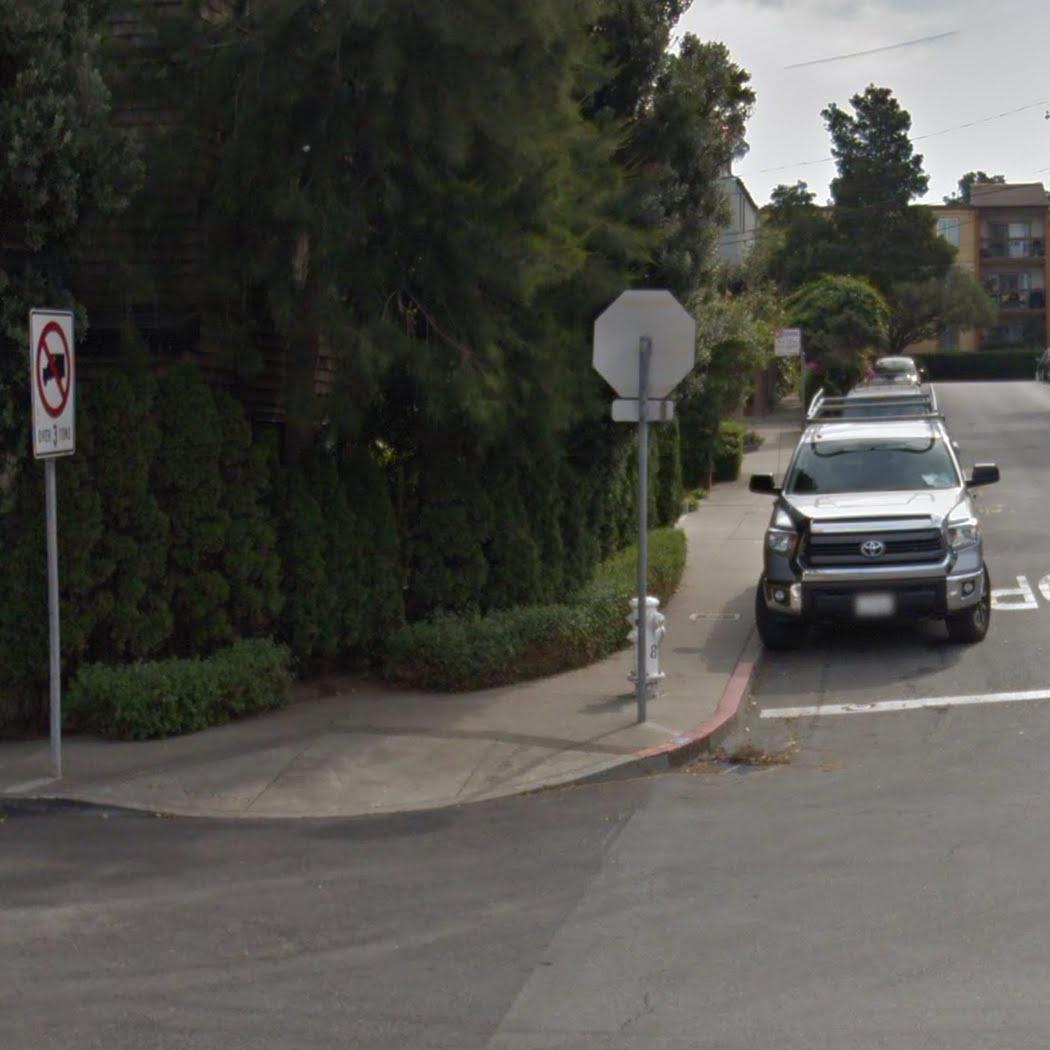No Parking: (768, 326, 799, 357)
